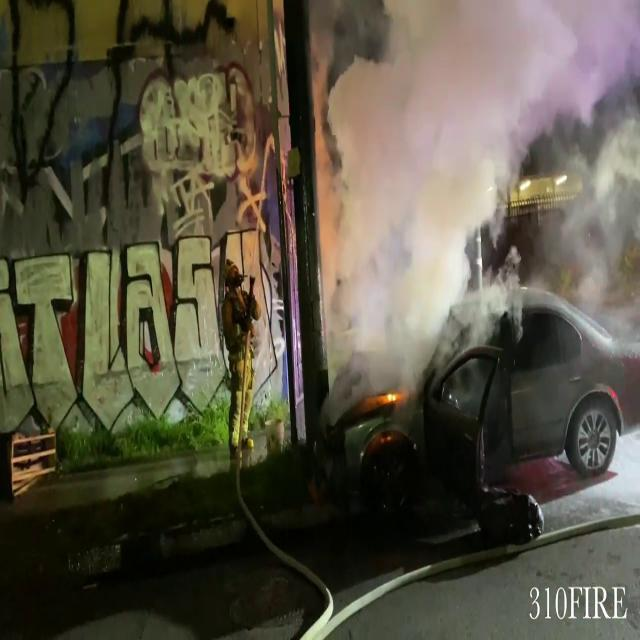Smoke: (320, 0, 639, 380)
